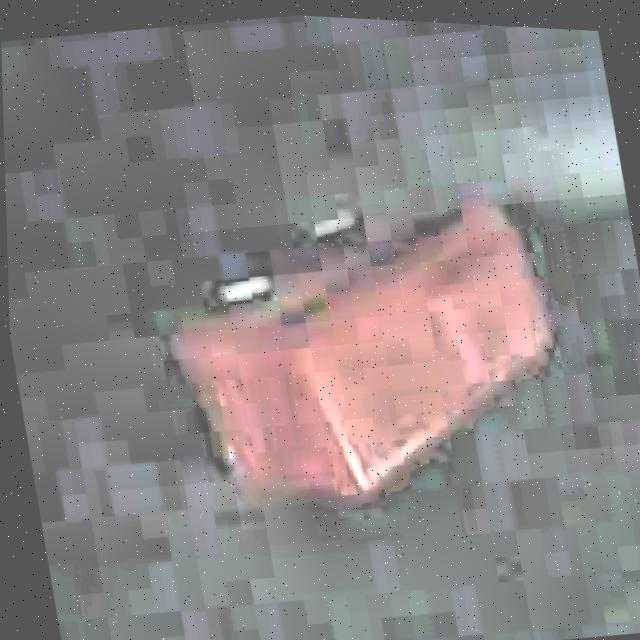bus: (135, 162, 596, 549)
